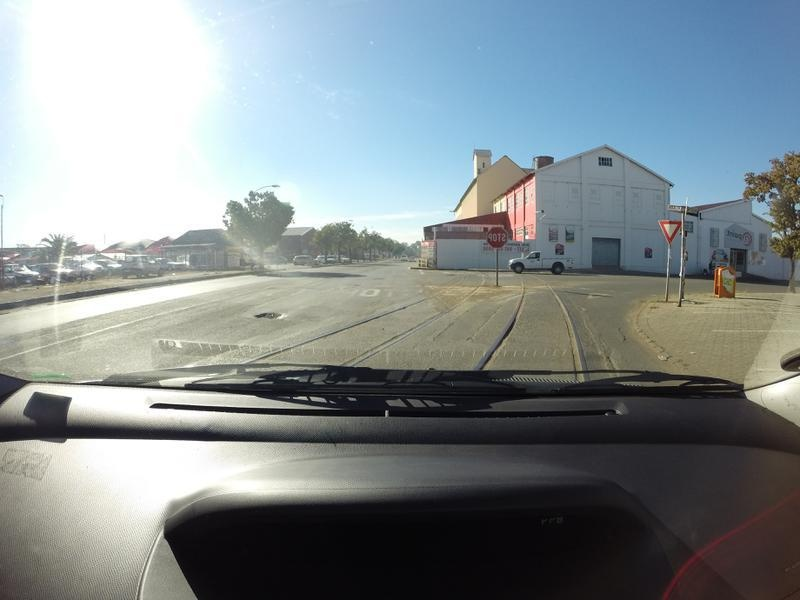pothole: (246, 305, 283, 328)
